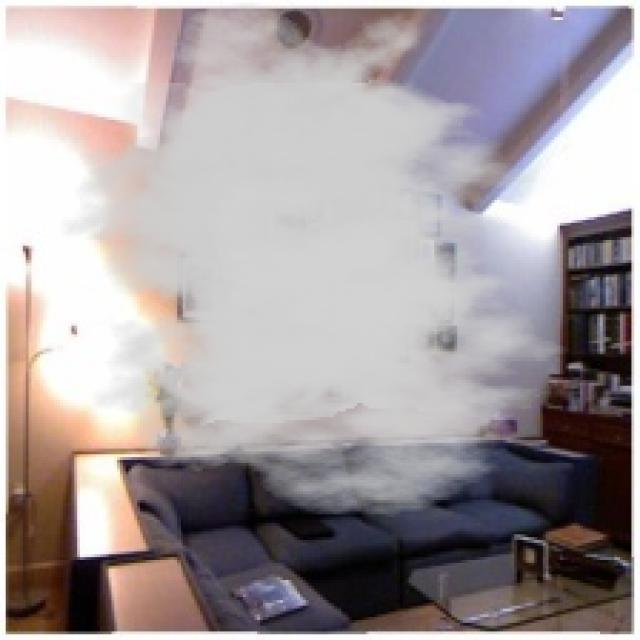Smoke: (51, 0, 592, 517)
